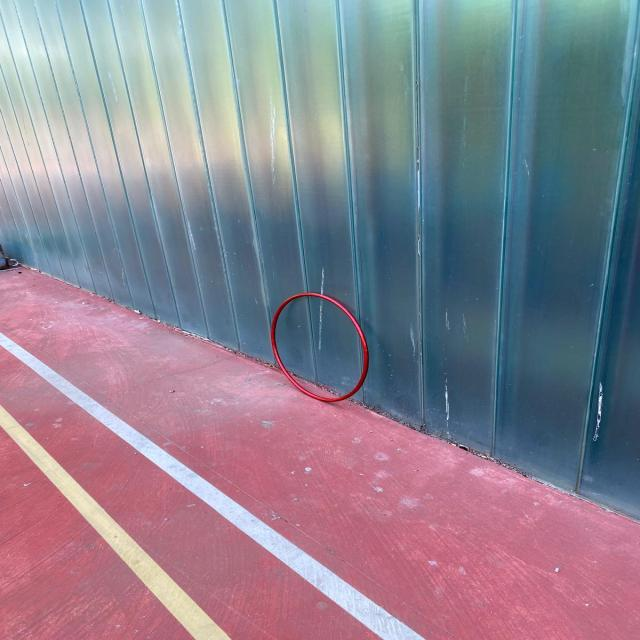Circle: (269, 291, 370, 402)
